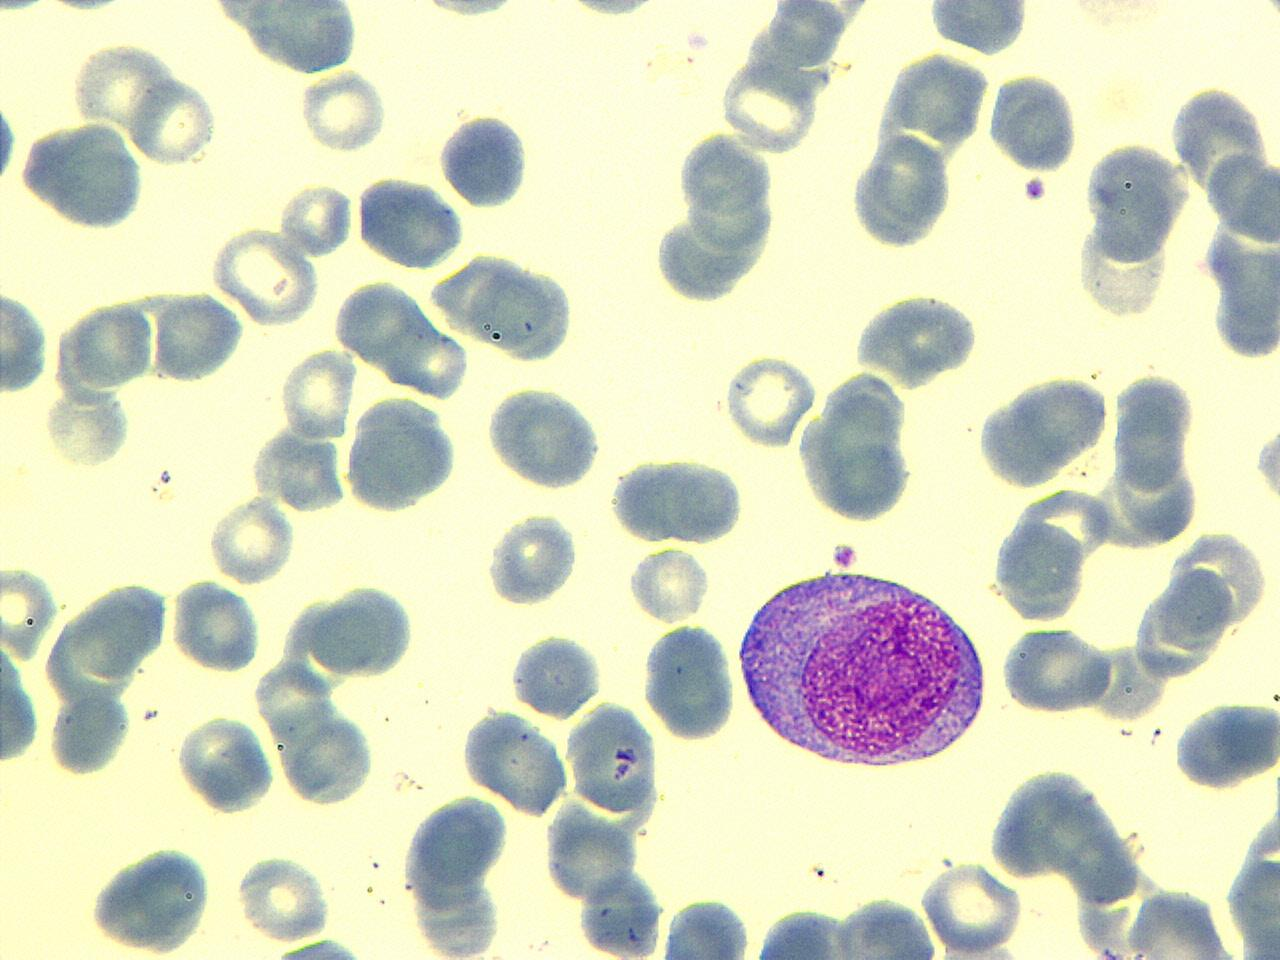Platelets: (484, 509, 582, 608), (1252, 420, 1280, 506), (0, 99, 19, 186), (0, 0, 47, 16), (1022, 175, 1047, 202)
RBC: (1082, 138, 1190, 265), (846, 128, 954, 251), (459, 704, 571, 818), (1112, 368, 1204, 496), (209, 224, 321, 326), (564, 700, 662, 816), (352, 172, 464, 271), (1000, 620, 1112, 716), (175, 710, 275, 814), (918, 860, 1024, 956), (719, 58, 822, 154), (987, 68, 1081, 172), (482, 510, 580, 608), (720, 352, 818, 450), (234, 850, 332, 944), (153, 289, 246, 384), (173, 577, 264, 674), (207, 492, 296, 586), (128, 73, 216, 165), (575, 874, 668, 958), (297, 68, 387, 154), (71, 298, 154, 390), (280, 345, 356, 442), (627, 544, 712, 624), (278, 180, 355, 260), (0, 563, 60, 663), (1, 286, 52, 397), (1042, 0, 1194, 34)
WBC: (729, 552, 995, 776), (1153, 20, 1280, 394), (647, 128, 786, 311), (398, 787, 516, 958), (794, 368, 918, 528), (984, 760, 1129, 882), (974, 366, 1114, 490), (438, 249, 584, 365), (85, 839, 218, 957), (17, 118, 150, 232), (343, 391, 463, 514), (990, 486, 1098, 622), (850, 284, 985, 390), (484, 378, 607, 493), (848, 131, 962, 252), (739, 897, 957, 960), (606, 451, 750, 546), (1083, 136, 1187, 267), (192, 2, 373, 75), (638, 619, 740, 743), (459, 704, 571, 816), (272, 695, 382, 804), (356, 167, 467, 275), (567, 698, 662, 818), (1224, 759, 1280, 960), (309, 582, 421, 682), (1170, 698, 1280, 792), (434, 109, 534, 212), (988, 68, 1081, 177), (508, 630, 608, 722), (655, 895, 757, 959), (922, 1, 1032, 56)
